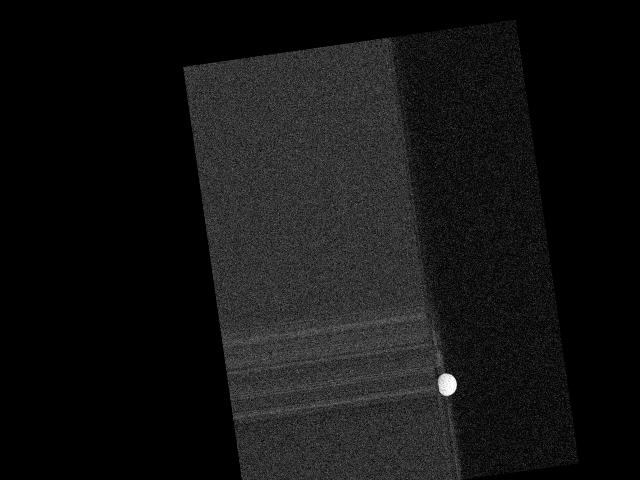egg: (436, 371, 458, 396)
